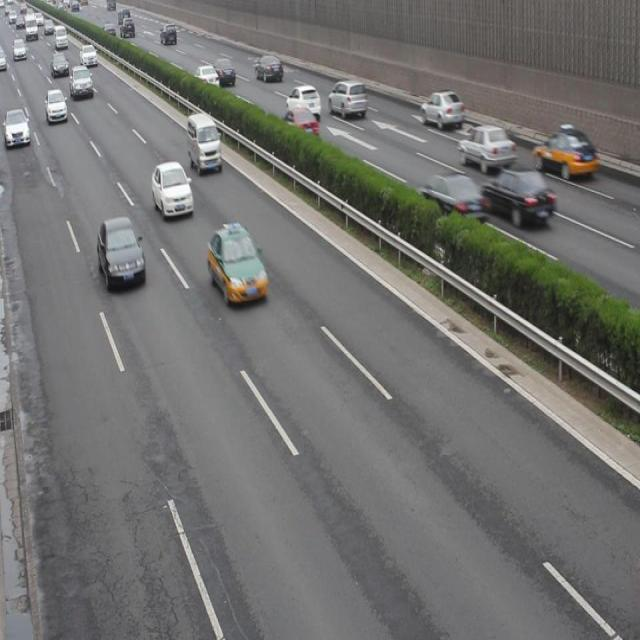car: (207, 224, 267, 306), (479, 164, 554, 228), (416, 172, 486, 230), (97, 214, 145, 291), (531, 125, 595, 180), (458, 122, 514, 171), (152, 159, 194, 220), (419, 90, 464, 130), (326, 77, 367, 120), (278, 106, 319, 146), (285, 83, 320, 118), (4, 107, 30, 150), (254, 52, 283, 84), (192, 64, 219, 96), (211, 56, 236, 86)
truck: (187, 110, 222, 177)
